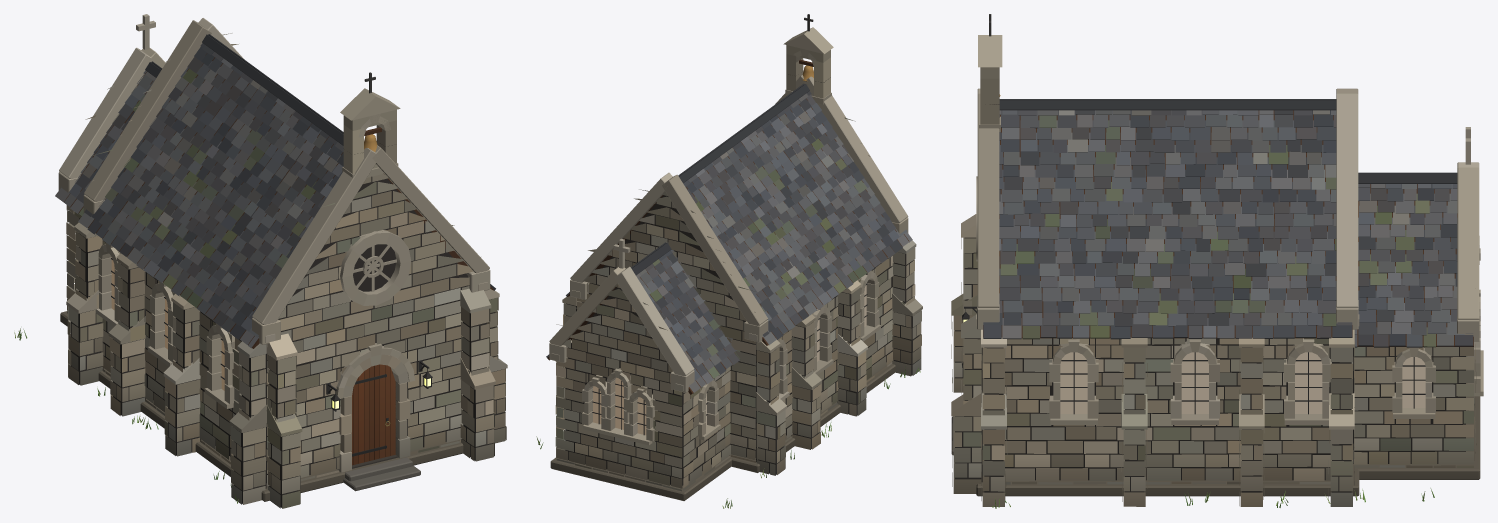
File: chapel.glb
The picture shows the model from 3 angles, left to right: view 1: azimuth 30°, elevation 25°; view 2: azimuth 150°, elevation 25°; view 3: azimuth 270°, elevation 25°; orthographic projection. The views are drawn at different scales.
Parts seen in each view (by area): view 1: Chapel; view 2: Chapel; view 3: Chapel.
Boxes of the visible parts, <box> form: Chapel: <box>14,14,507,508</box>; Chapel: <box>536,14,922,508</box>; Chapel: <box>951,14,1483,508</box>.
Bounding box in the file's own units: 8.49 × 11.98 × 13.62.
